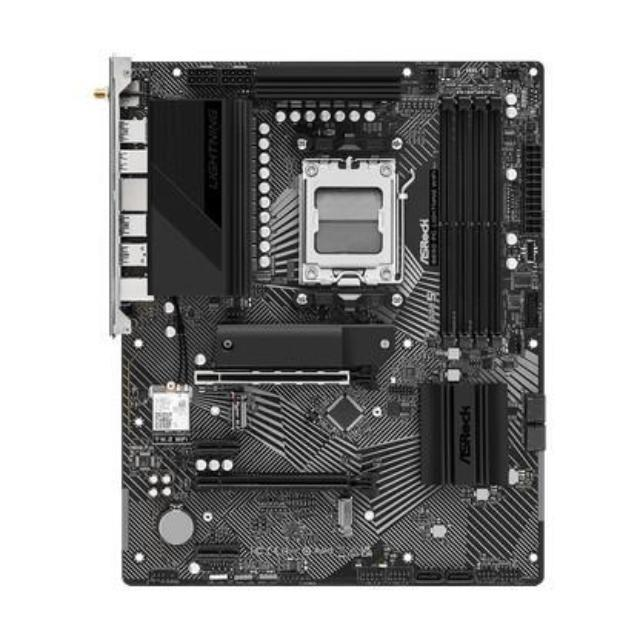Mainboard: (86, 41, 562, 610)
